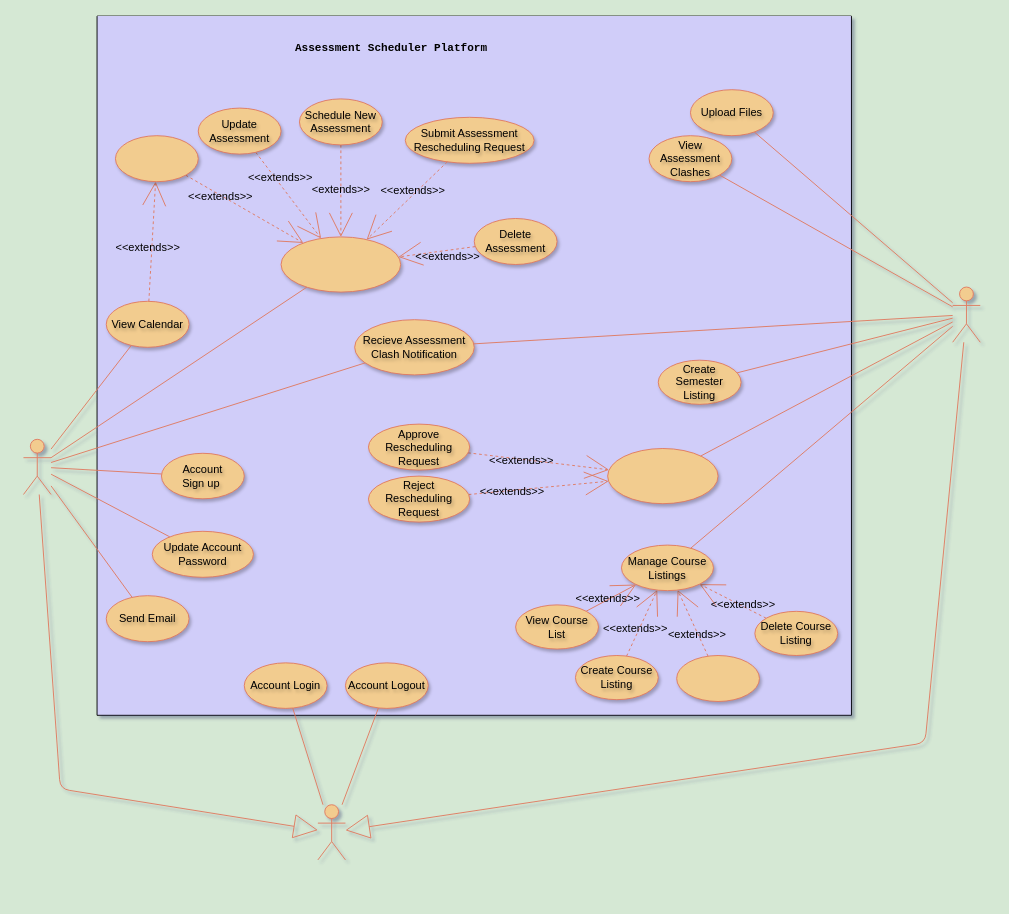
This 1009x914 diagram has some shape labels left out. Here are the shapes that lost their labels. From the top down, the centre of each, then its label:
At point (157, 159): "View Assessments".
At point (341, 265): "Manage Assessments".
At point (966, 314): "Admin".
At point (37, 466): "Staff".
At point (663, 477): "Manage Rescheduling Requests".
At point (718, 679): "Update Course Listing".
At point (331, 832): "User <<abstract>>".
